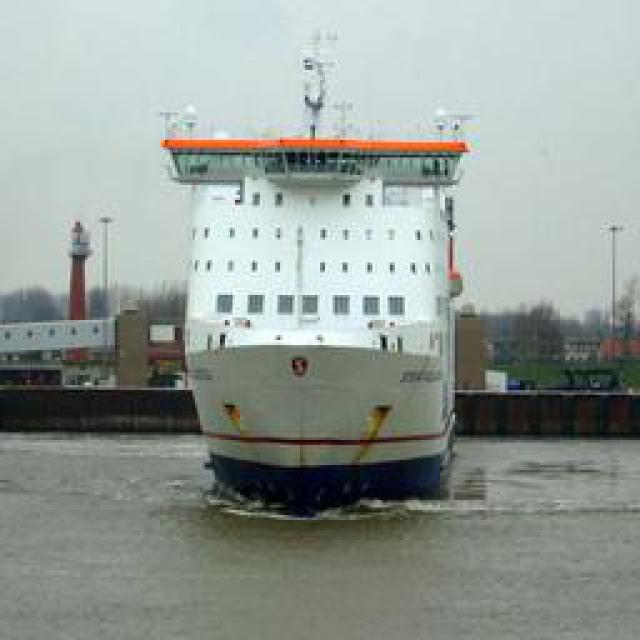Ship: (182, 107, 472, 520)
